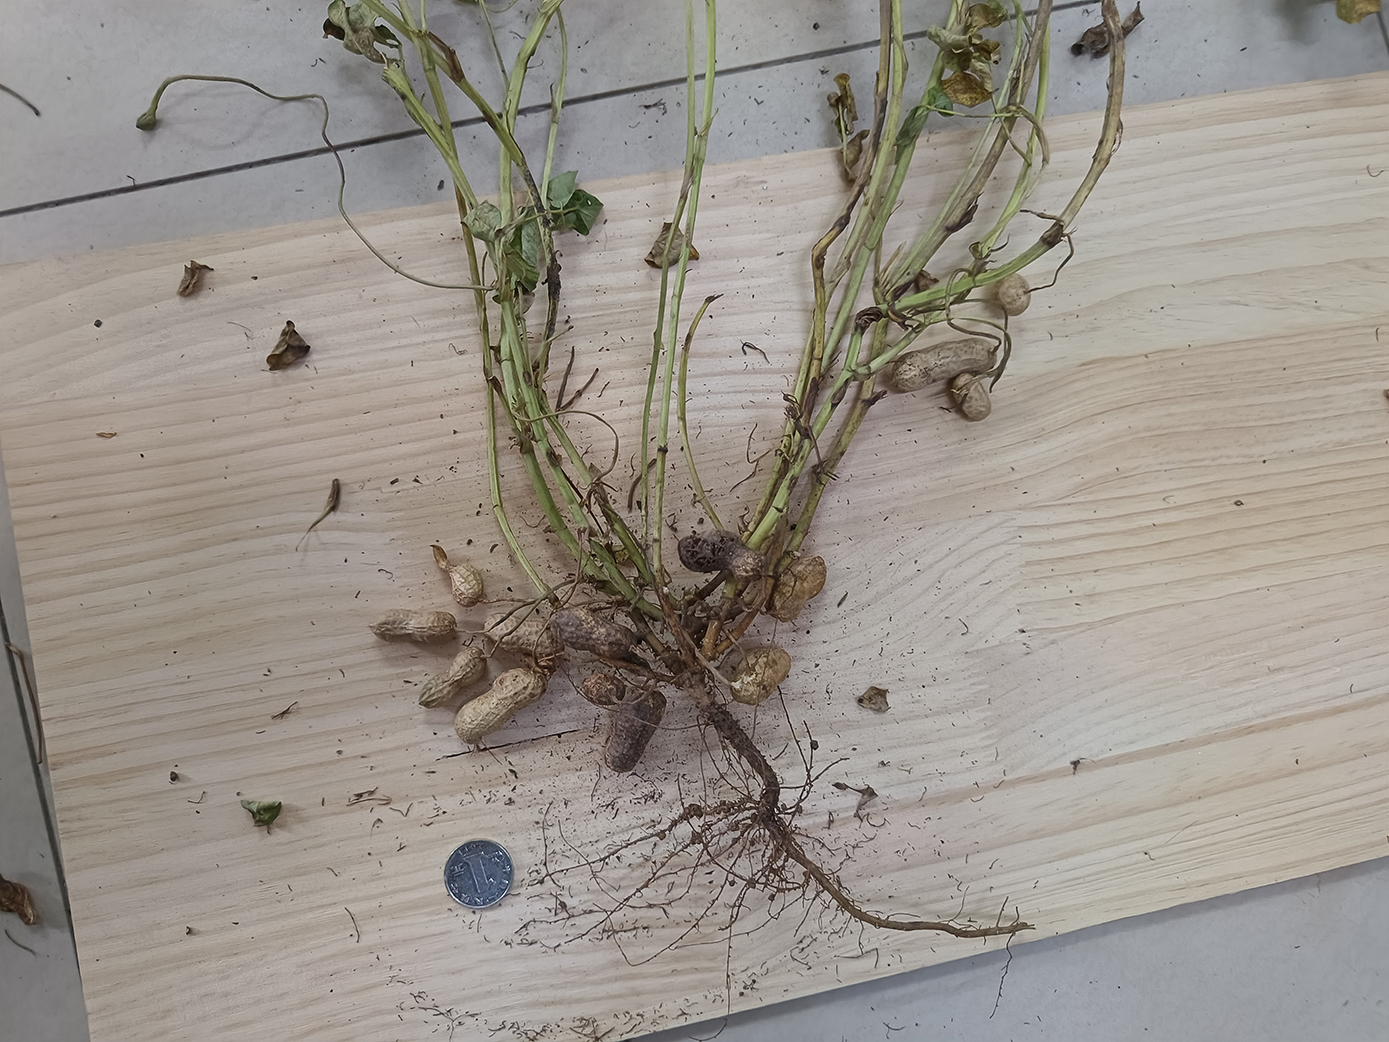h: (452, 669, 548, 743), (893, 335, 996, 391), (420, 647, 489, 707), (766, 556, 827, 622), (732, 646, 792, 705), (483, 614, 560, 657), (368, 609, 458, 642), (951, 374, 989, 422), (995, 273, 1032, 317)
l: (602, 687, 665, 776), (678, 529, 766, 583), (555, 609, 635, 660), (429, 544, 484, 607), (579, 671, 620, 701)
